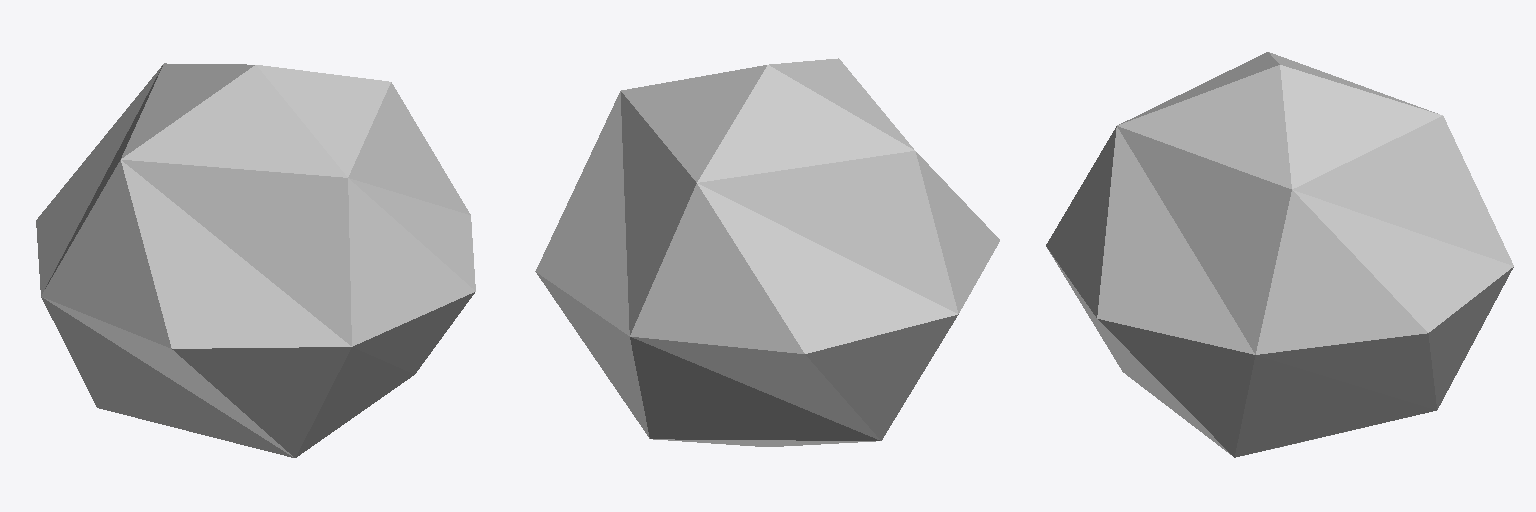
File: cloudsmooth.obj
3 renders of one model, left to right at view 1: azimuth 30°, elevation 25°; view 2: azimuth 150°, elevation 25°; view 3: azimuth 270°, elevation 25°, orthographic.
Visible parts, largest first — view 1: GeoSphere003; view 2: GeoSphere003; view 3: GeoSphere003.
Part boxes in pixels (bbox=[...]): GeoSphere003: bbox=[36, 63, 475, 457]; GeoSphere003: bbox=[535, 58, 999, 446]; GeoSphere003: bbox=[1046, 52, 1513, 457].
Size of the model in its own units: 0.6305 by 0.5684 by 0.6305.